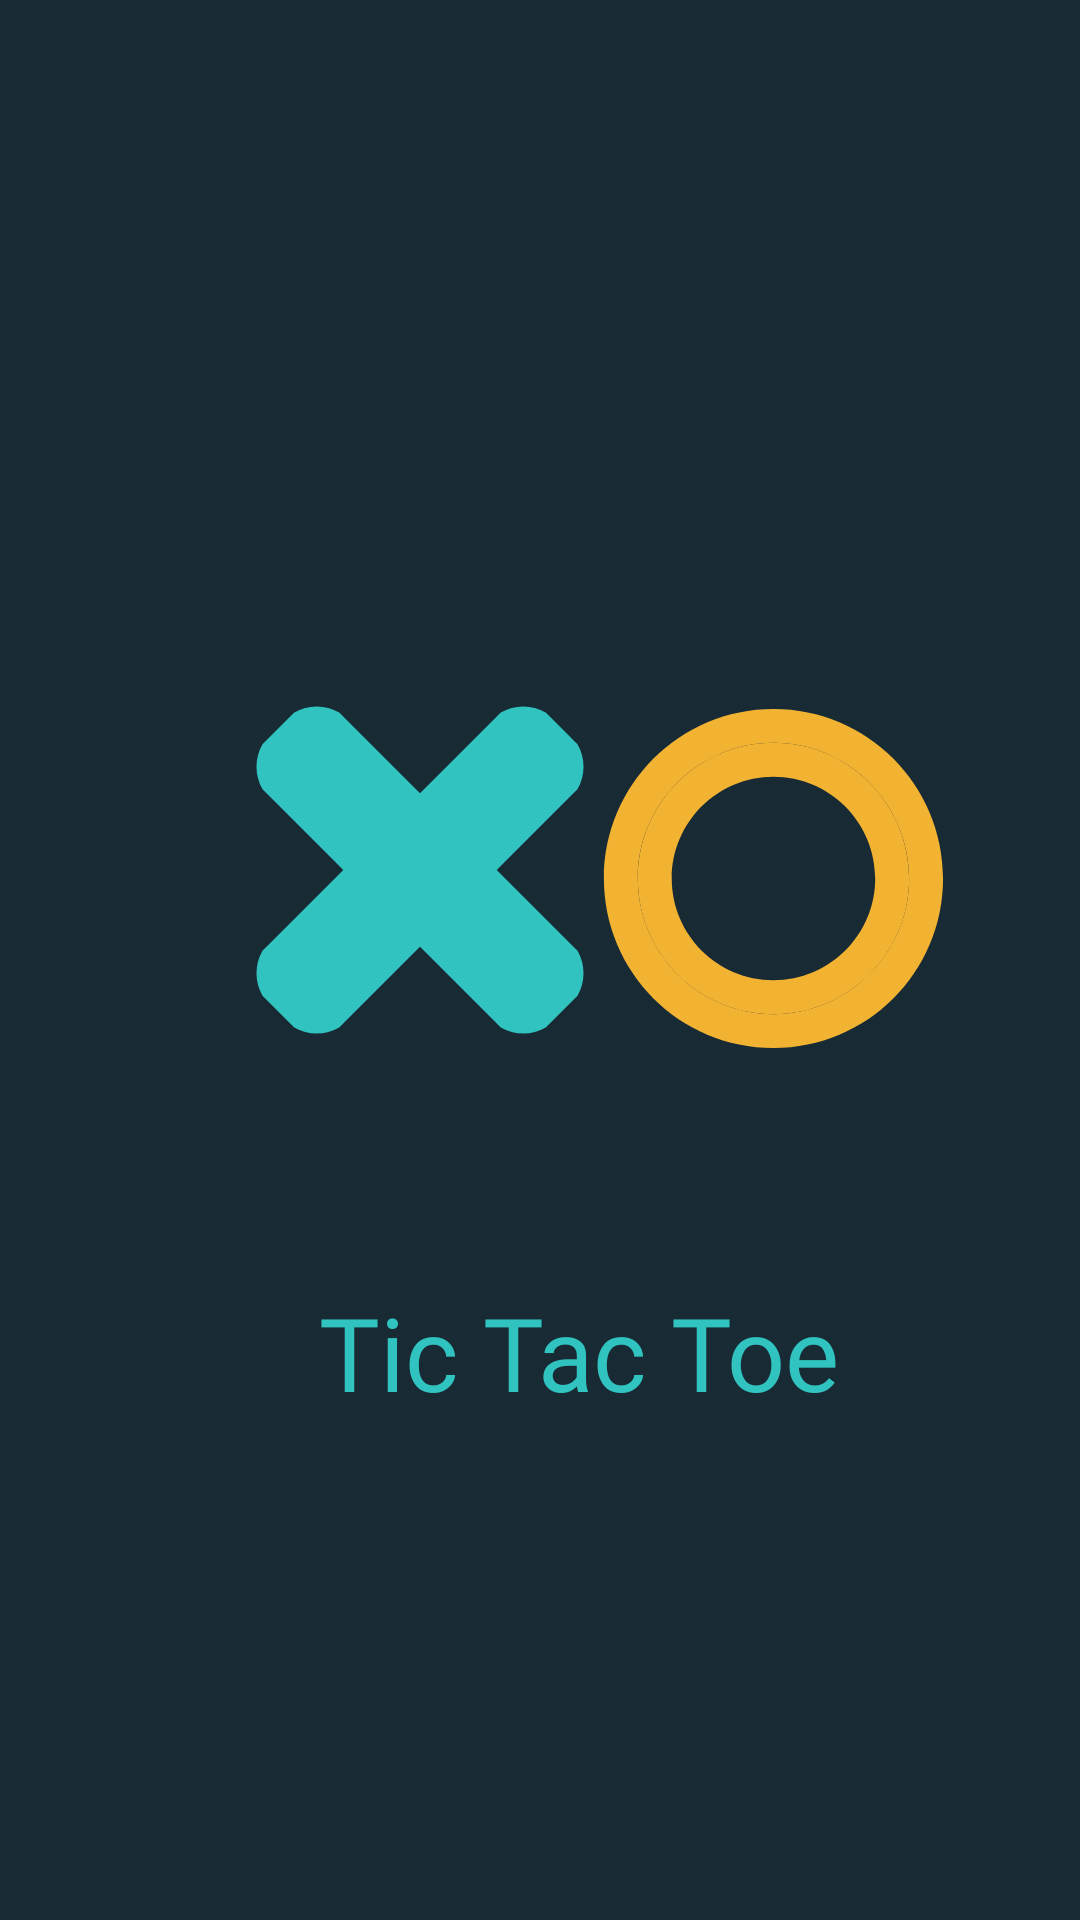

Where icons sit on this 1080w x 1920h app screen, as (x1, y1, x2, y2):
close: (256, 706, 584, 1034)
panorama fish eye: (603, 709, 943, 1048)
